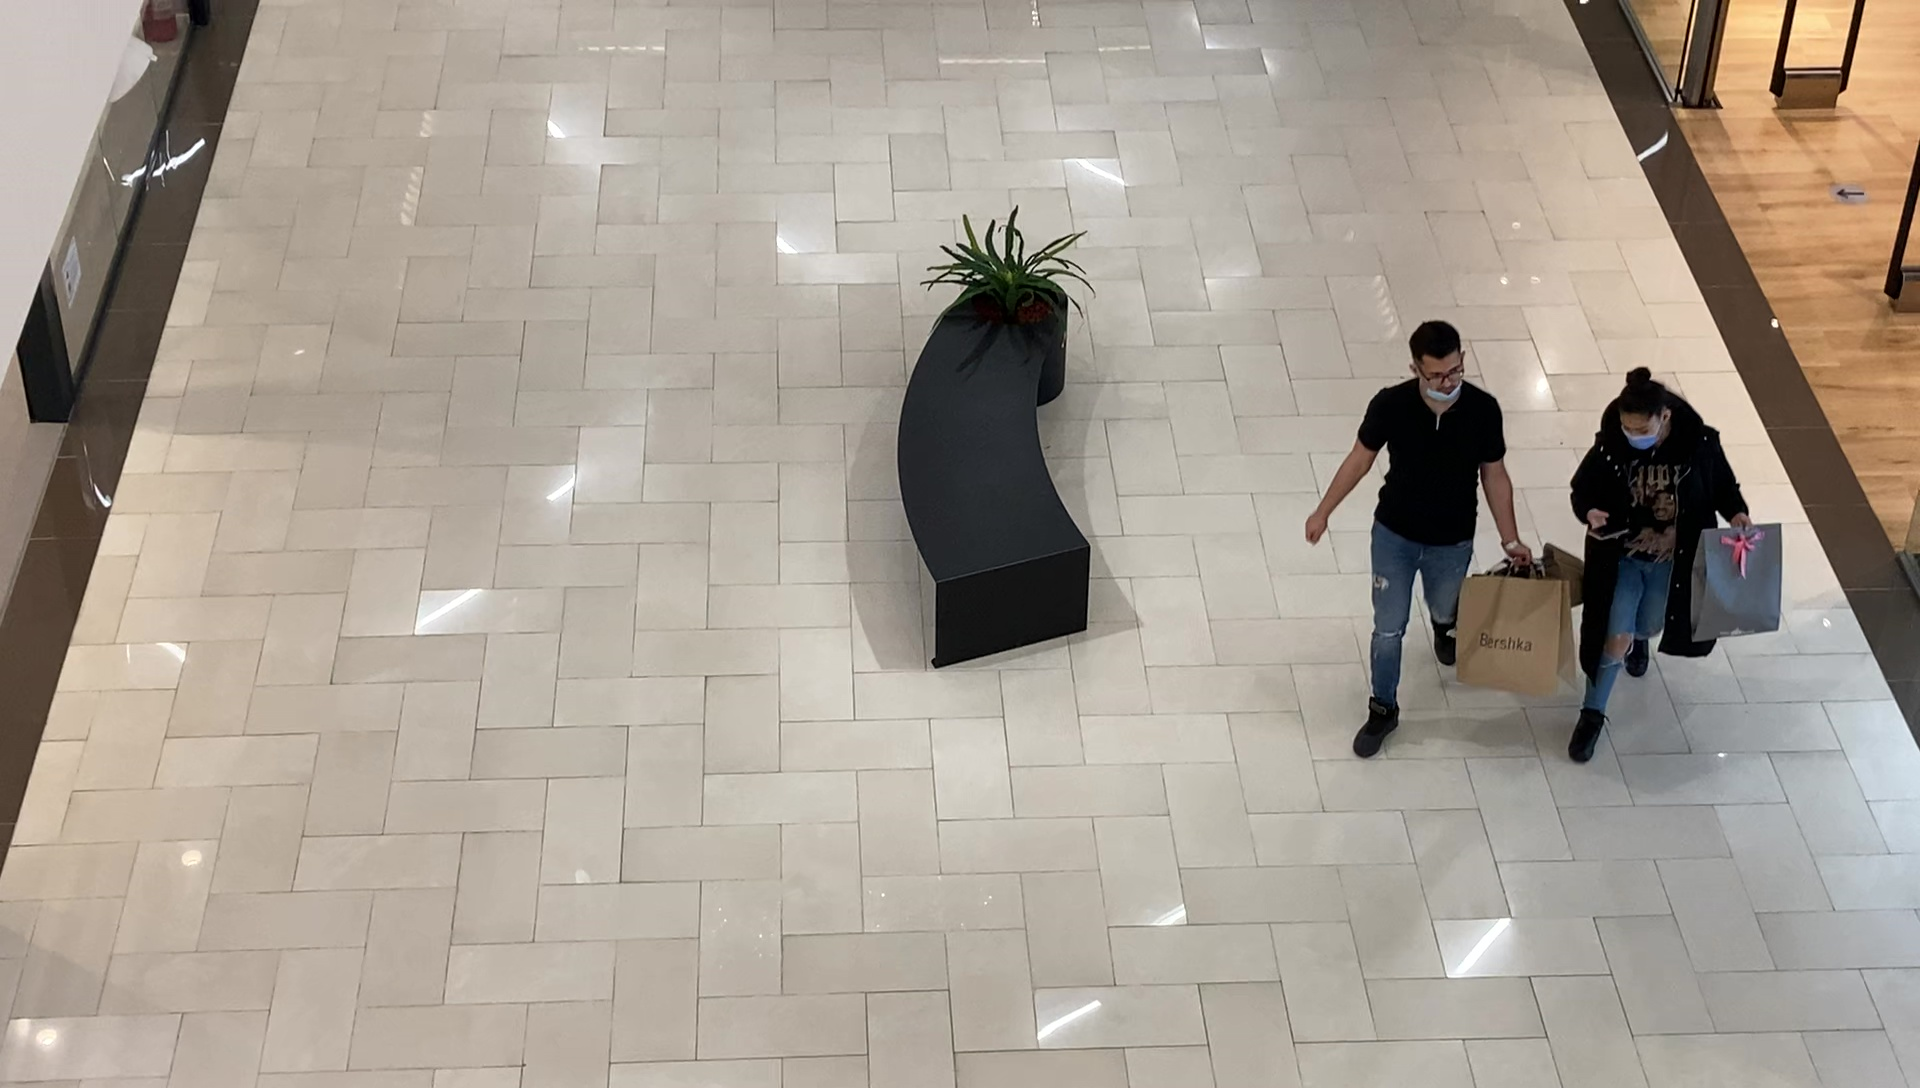person: (1306, 321, 1534, 762), (1571, 372, 1750, 767)
